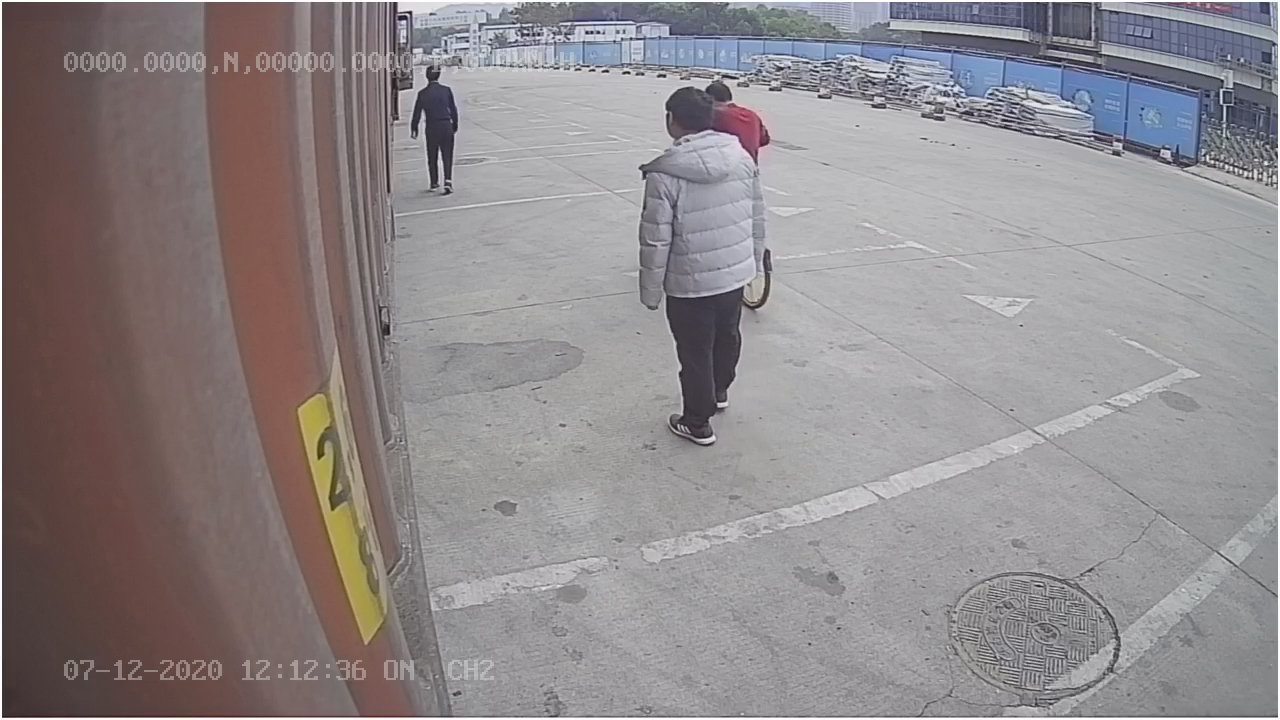person: (636, 85, 769, 451)
